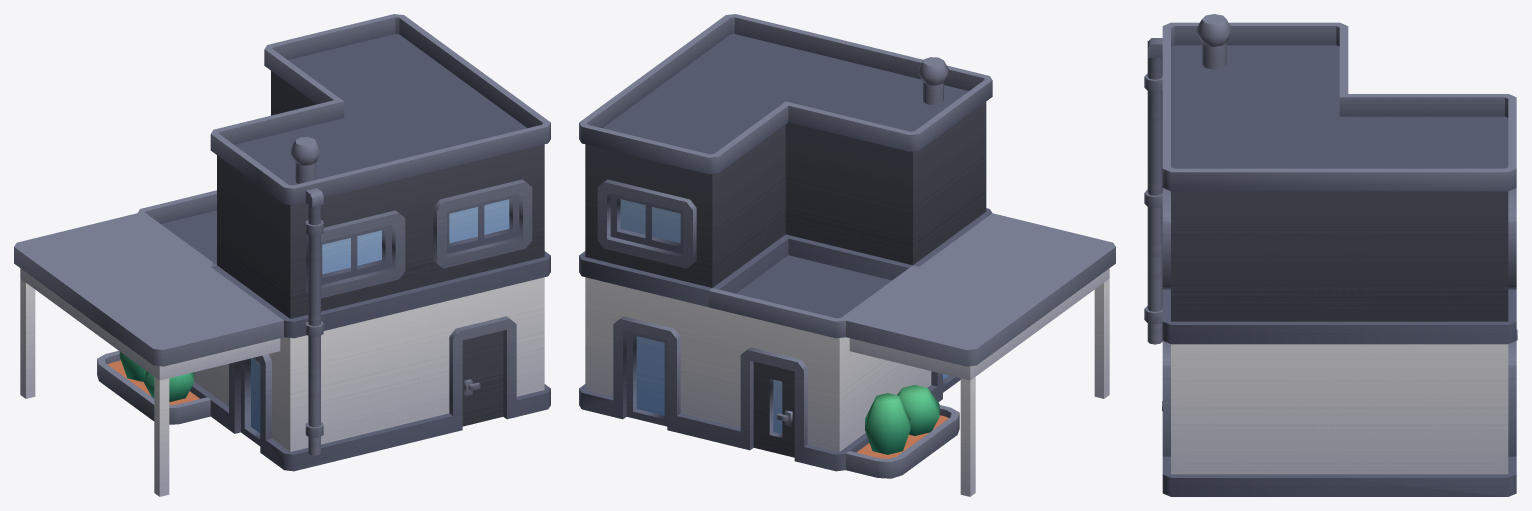
The model's file is Building11.glb.
3 views of the same model, side by side, from view 1: azimuth 30°, elevation 25°; view 2: azimuth 150°, elevation 25°; view 3: azimuth 270°, elevation 25° (orthographic). The views are drawn at different scales.
Parts seen in each view (by area): view 1: building-type-q; view 2: building-type-q; view 3: building-type-q.
Part boxes in pixels (x1,y1,x2,y2): building-type-q: [14, 14, 550, 496]; building-type-q: [579, 14, 1115, 496]; building-type-q: [1144, 14, 1517, 496].
Bounding box in the file's own units: 1.24 × 0.918 × 0.8856.
Materials: 1 (1 with a texture image).
